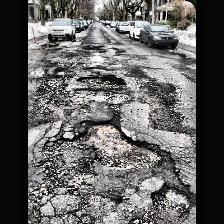pothole: (71, 116, 166, 168), (150, 185, 192, 213), (76, 76, 124, 88)
